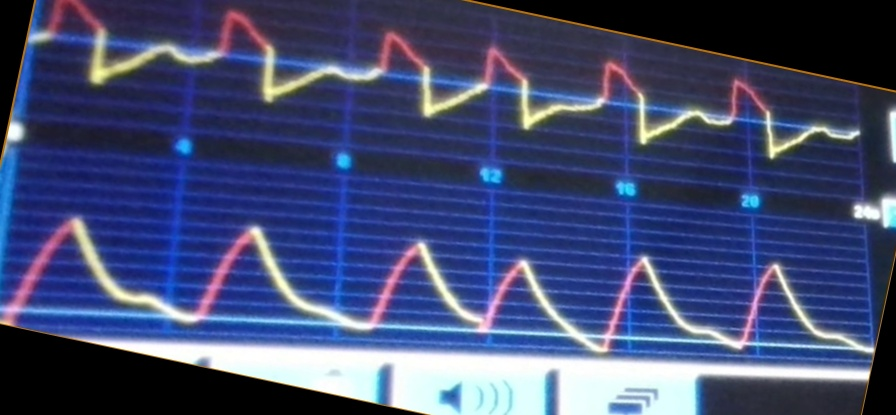Ineffective_effort Flow: (34, 2, 860, 159)
Ineffective_effort Volume: (5, 209, 867, 354)
